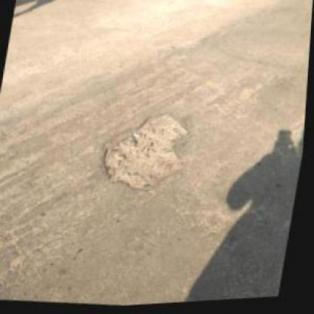Hueco: (98, 108, 194, 198)
